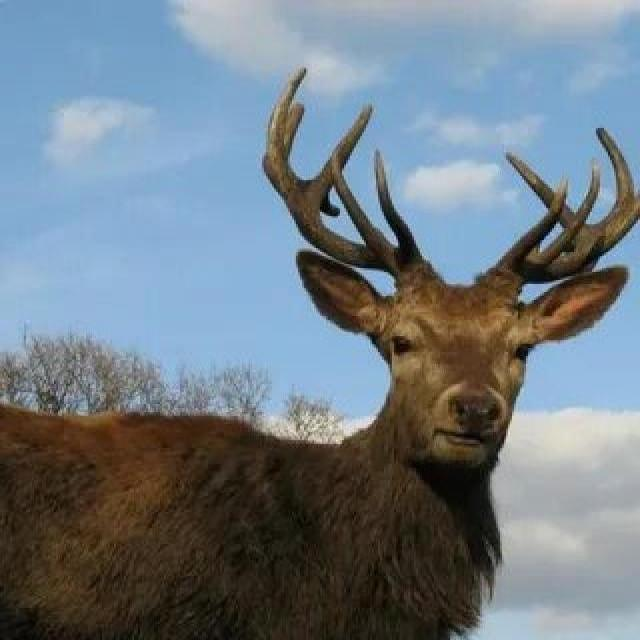deer: (34, 77, 623, 640)
